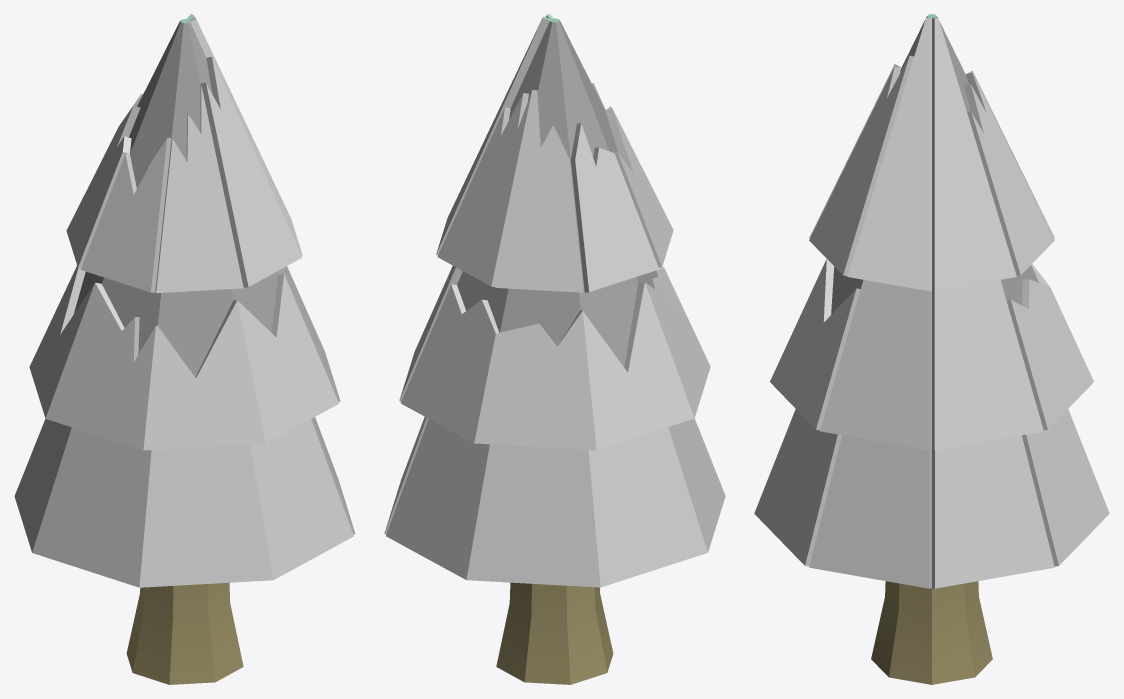
The model's file is Tree_Pine_Snow.fbx.
The picture shows the model from 3 angles, left to right: view 1: azimuth 30°, elevation 25°; view 2: azimuth 150°, elevation 25°; view 3: azimuth 270°, elevation 25°; orthographic projection.
Visible parts, largest first — view 1: Tree_Pine_Snow; view 2: Tree_Pine_Snow; view 3: Tree_Pine_Snow.
Boxes of the visible parts, <box> form: Tree_Pine_Snow: <box>14,14,355,684</box>; Tree_Pine_Snow: <box>384,14,725,684</box>; Tree_Pine_Snow: <box>754,14,1109,684</box>.
Bounding box in the file's own units: 9.02 × 18.13 × 9.05.
